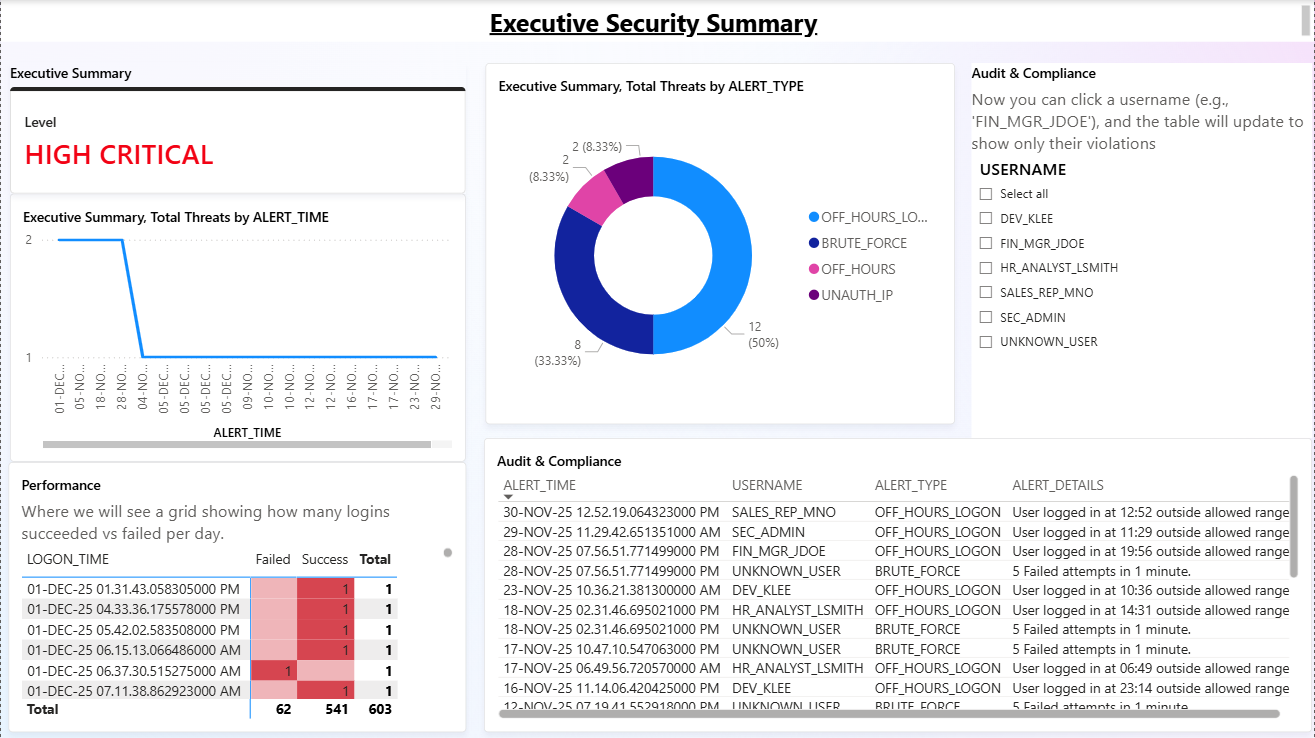

The page's visual inventory and layout, read from the dashboard file:
{"tool":"powerbi","page":{"name":"DB Access Anomaly Detection DashBoard","canvas":[1280,720],"ordinal":0},"visuals":[{"type":"lineChart","title":"Executive Summary, Total Threats by ALERT_TIME","fields":{"Y":["ACCESS_LOG.Total Threats"],"Category":["SECURITY_ALERTS.ALERT_TIME"]},"box":[8.8,188.5,444.3,261.6],"z":0},{"type":"donutChart","title":"Executive Summary, Total Threats by ALERT_TYPE","fields":{"Category":["SECURITY_ALERTS.ALERT_TYPE"],"Y":["ACCESS_LOG.Total Threats"]},"box":[472.1,61.4,457.4,352.2],"z":1000},{"type":"cardVisual","title":"Executive Summary","fields":{"Data":["ACCESS_LOG.Level"]},"box":[8.8,61.4,444.3,127.1],"z":2000},{"type":"tableEx","title":"Audit & Compliance","fields":{"Values":["SECURITY_ALERTS.ALERT_TIME","SECURITY_ALERTS.USERNAME","SECURITY_ALERTS.ALERT_TYPE","SECURITY_ALERTS.ALERT_DETAILS"]},"box":[470.6,426.7,806.7,286.4],"z":3000},{"type":"slicer","title":"Audit & Compliance","fields":{"Values":["SECURITY_ALERTS.USERNAME"]},"box":[945.6,61.4,331.8,365.4],"z":4000},{"type":"pivotTable","title":"Performance","fields":{"Rows":["ACCESS_LOG.LOGON_TIME"],"Columns":["ACCESS_LOG.LOGON_STATUS"],"Values":["CountNonNull(ACCESS_LOG.LOG_ID)"]},"box":[7.3,450.1,445.7,263.1],"z":5000},{"type":"textbox","box":[0,0,1280.2,40.9],"z":5001}]}

Visuals, with their boxes in screenshot pixels (x1, y1, x2, y2), scaled from the page's 1280x720 canvas onto the 1315x738 screenshot:
"Executive Summary, Total Threats by ALERT_TIME" lineChart: bbox(9, 193, 465, 461)
"Executive Summary, Total Threats by ALERT_TYPE" donutChart: bbox(485, 63, 955, 424)
"Executive Summary" cardVisual: bbox(9, 63, 465, 193)
"Audit & Compliance" tableEx: bbox(483, 437, 1312, 731)
"Audit & Compliance" slicer: bbox(971, 63, 1312, 437)
"Performance" pivotTable: bbox(7, 461, 465, 731)
textbox: bbox(0, 0, 1314, 42)
